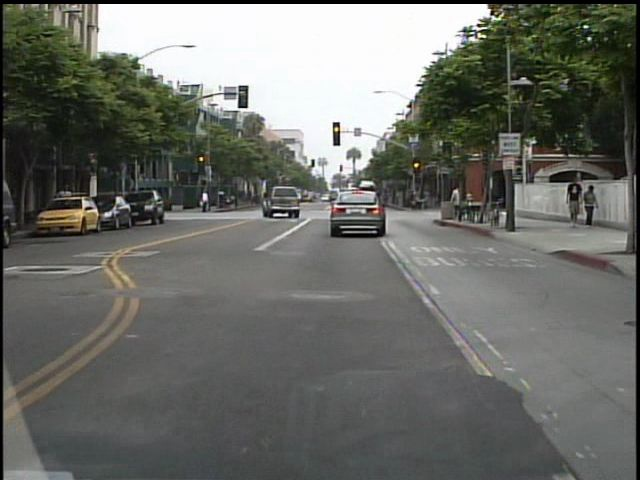person: (562, 174, 583, 229), (579, 182, 600, 231), (446, 183, 467, 224), (200, 187, 213, 215)
